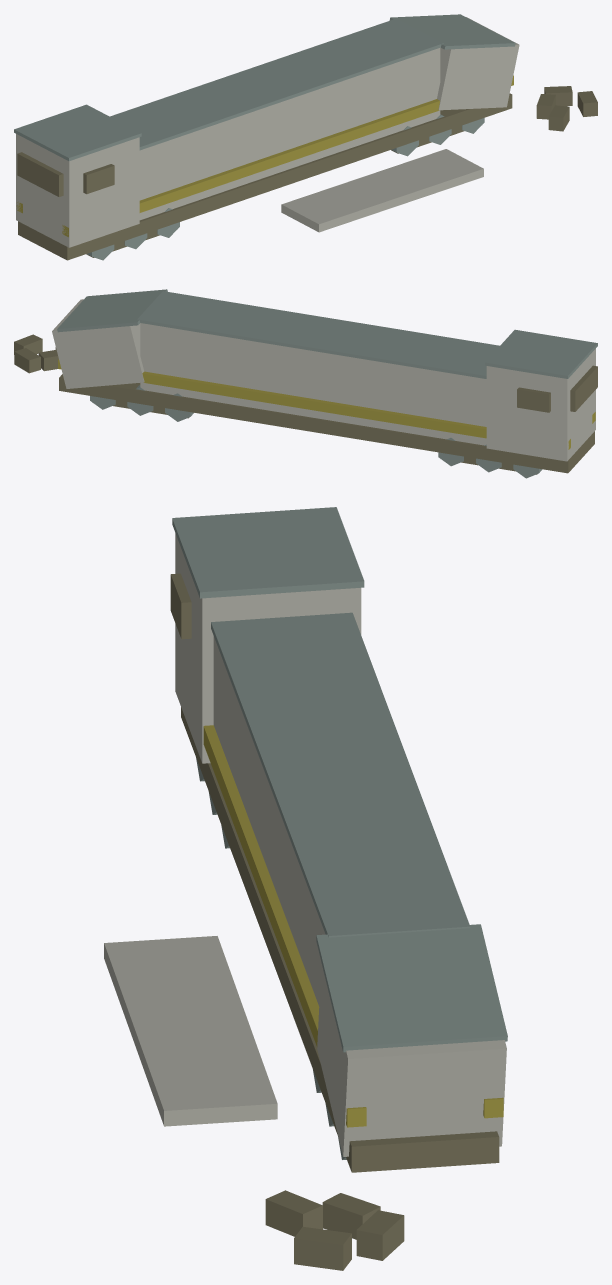
File: SM_Locomotora_v4_Aplastada_LOD1.fbx
3 renders of one model, top to bottom at view 1: azimuth 30°, elevation 25°; view 2: azimuth 150°, elevation 25°; view 3: azimuth 270°, elevation 25°, orthographic. The views are drawn at different scales.
Parts seen in each view (by area): view 1: SM_aqui_paso_algo_v4_LOD1; view 2: SM_aqui_paso_algo_v4_LOD1; view 3: SM_aqui_paso_algo_v4_LOD1.
Boxes of the visible parts, left/top/right/bottom form: SM_aqui_paso_algo_v4_LOD1: left=14, top=14, right=597, bottom=260; SM_aqui_paso_algo_v4_LOD1: left=14, top=289, right=597, bottom=478; SM_aqui_paso_algo_v4_LOD1: left=104, top=507, right=507, bottom=1270.
Size of the model in its own units: 22.3 by 4.32 by 7.03.
